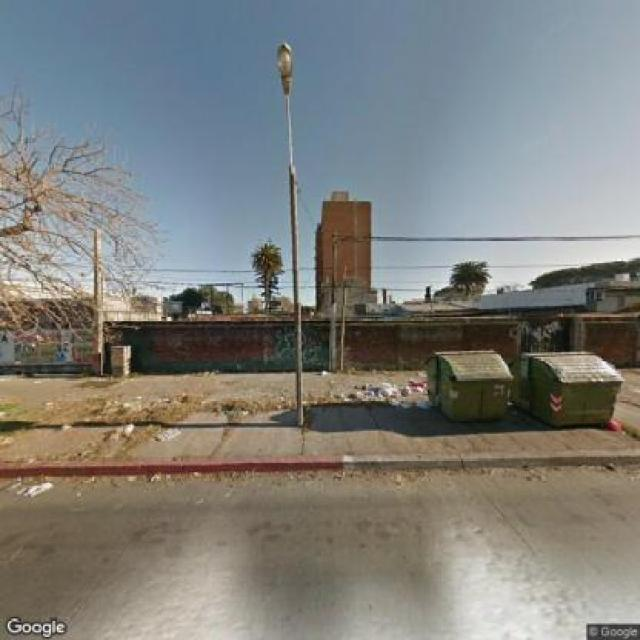garbage: (75, 399, 180, 444), (345, 371, 436, 412), (0, 462, 61, 506), (214, 391, 347, 411)
